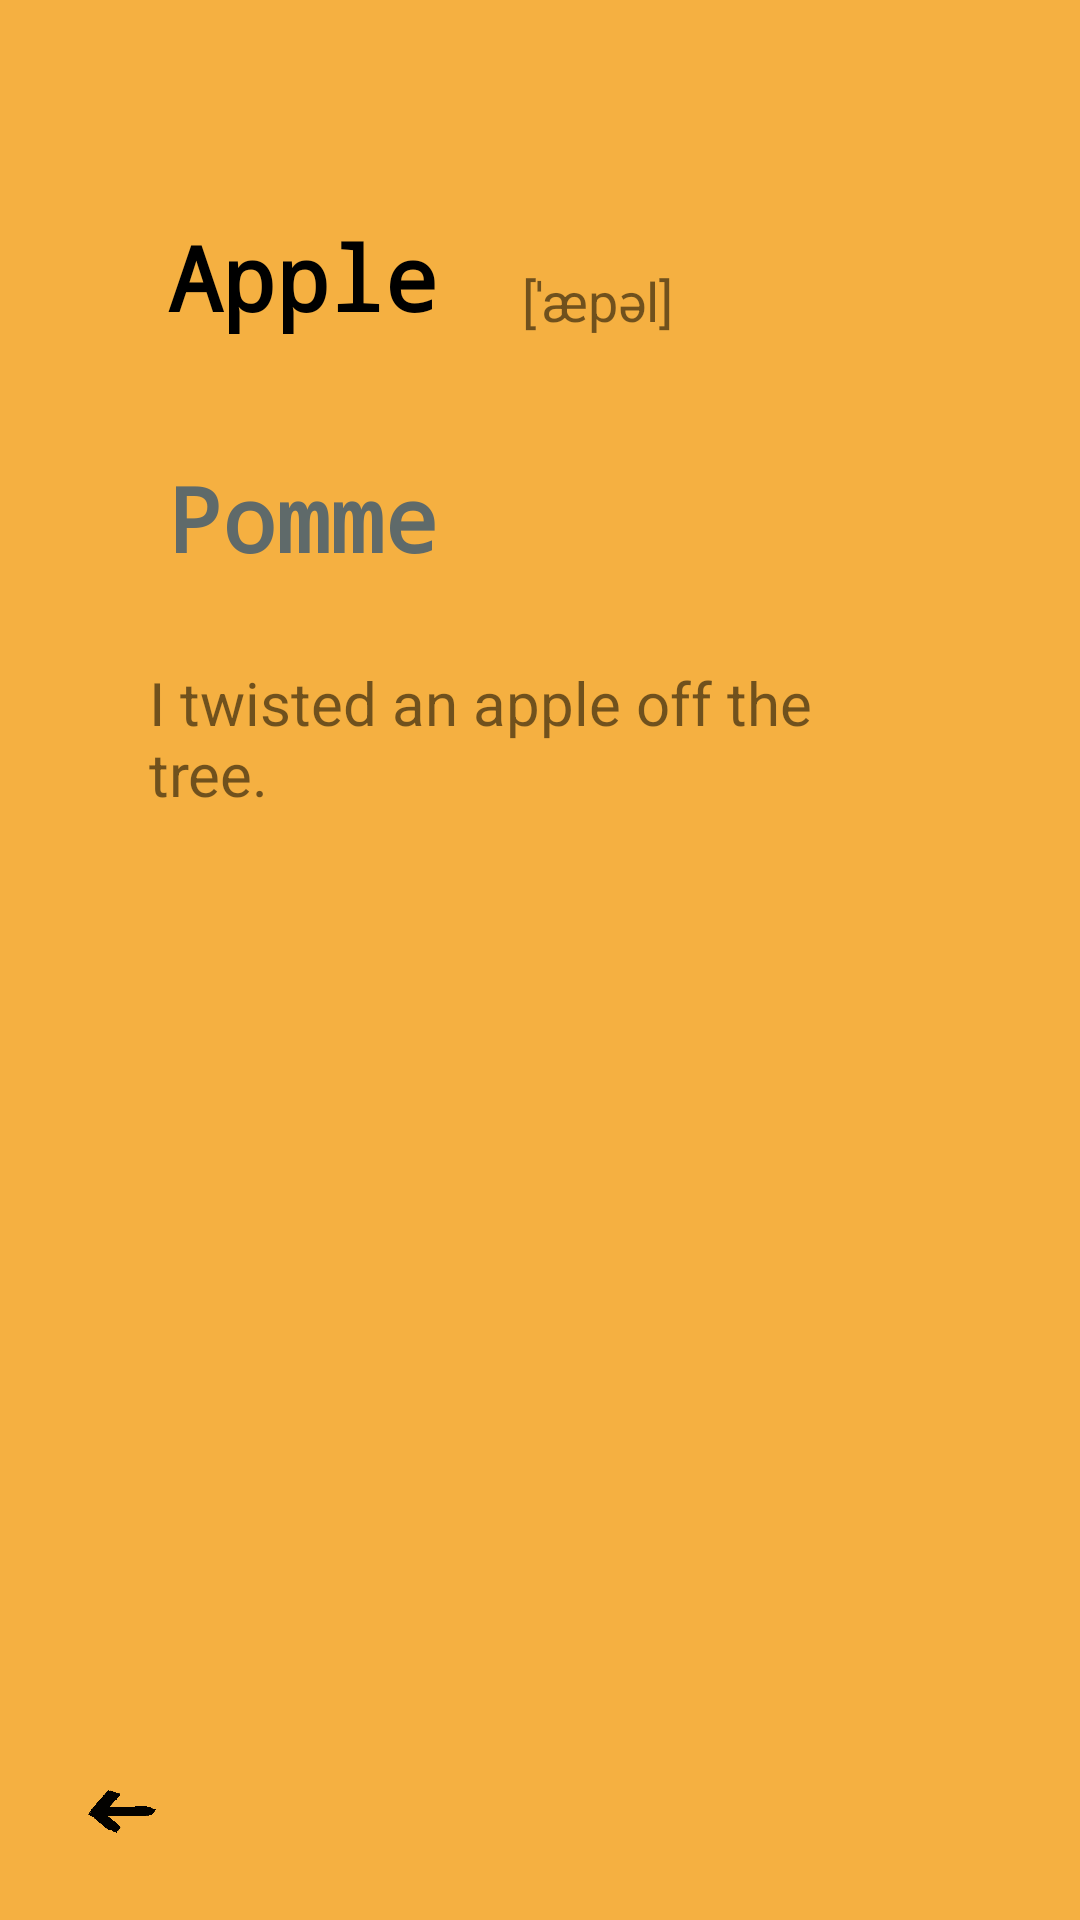

Icons on this 1080 x 1920 Android screen, each with its box as (x1, y1, x2, y2):
retour: (88, 1790, 156, 1833)
